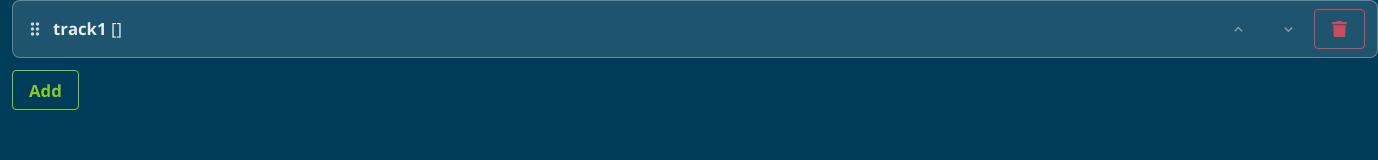
Test: <ManageTracks /> › should arm the delete button on first click without removing the track
The image size is (1378, 160).
Step 1. Click the button with test id "delete-01-track1-0-btn" → (1340, 29), box [1314,9,1365,49]
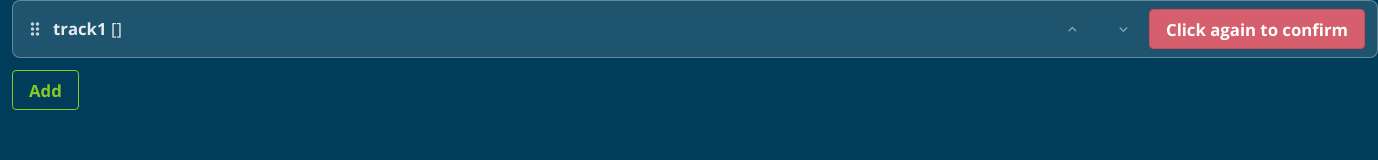
Expected: the button "Click again to confirm" is shown, [1149,9,1365,49]
